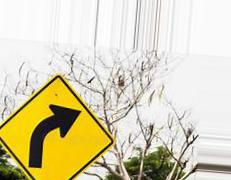right: (1, 74, 115, 180)
